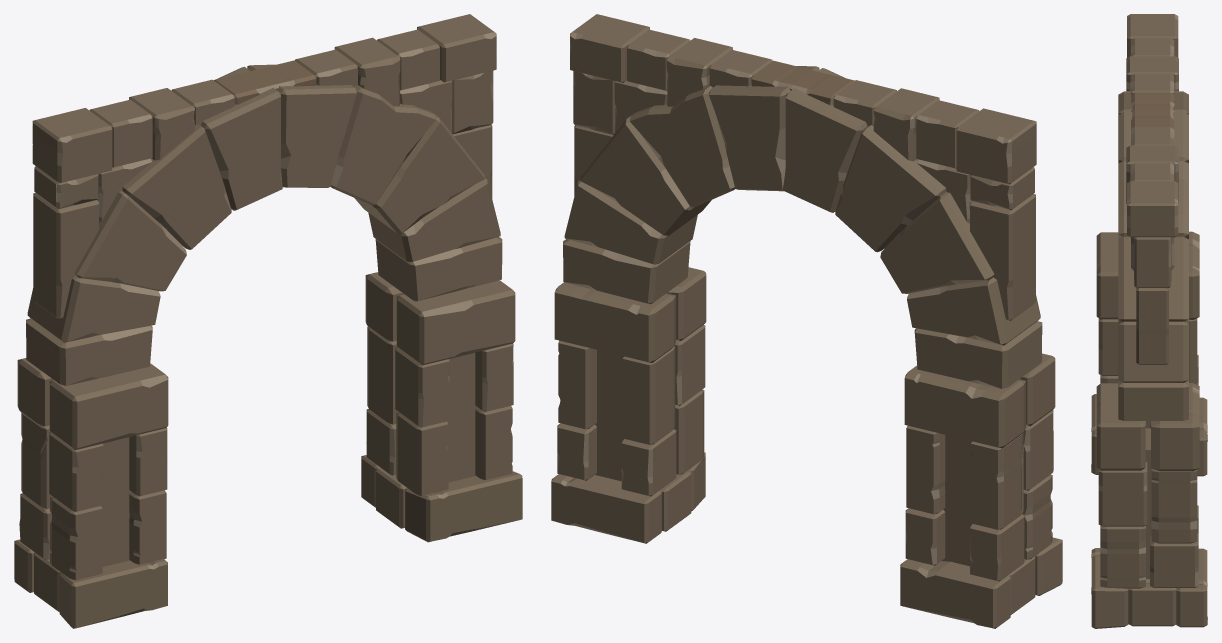
Rendered from dungeon_arch.glb.
3 renders of one model, left to right at view 1: azimuth 30°, elevation 25°; view 2: azimuth 150°, elevation 25°; view 3: azimuth 270°, elevation 25°, orthographic. The views are drawn at different scales.
Visible parts, largest first — view 1: Arch; view 2: Arch; view 3: Arch.
Part boxes in pixels (left/top/right/bottom): Arch: left=14, top=14, right=522, bottom=628; Arch: left=551, top=14, right=1062, bottom=628; Arch: left=1091, top=14, right=1207, bottom=628.
Size of the model in its own units: 3.3 by 3.32 by 0.8301.
